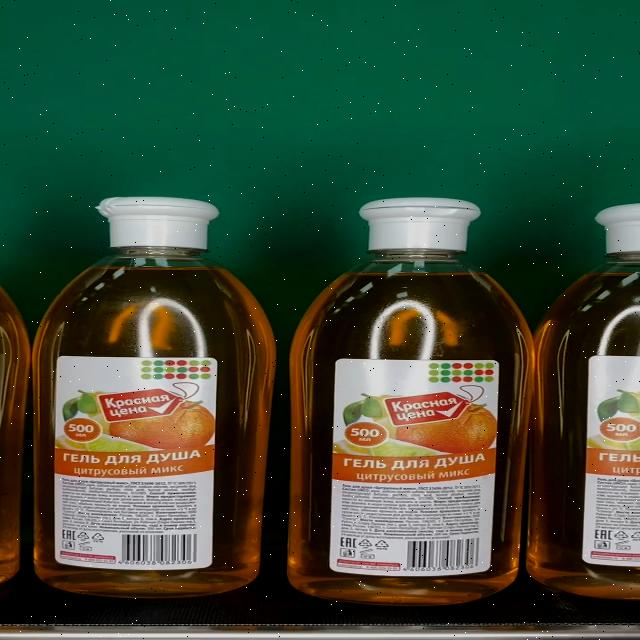Bottle: (290, 197, 538, 605), (30, 197, 276, 599)
Cap: (359, 198, 483, 251), (102, 198, 222, 248)
